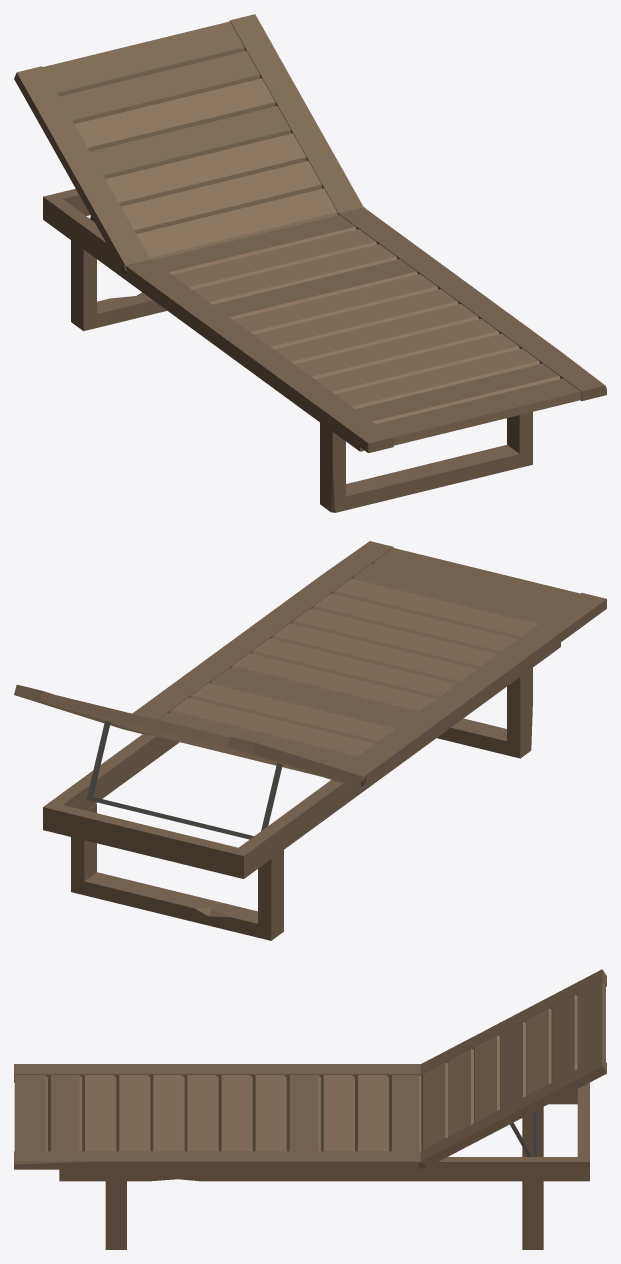
File: SM_Props_City_Beach_DeckChair_02.fbx
The picture shows the model from 3 angles, top to bottom: view 1: azimuth 30°, elevation 25°; view 2: azimuth 150°, elevation 25°; view 3: azimuth 270°, elevation 25°; orthographic projection. The views are drawn at different scales.
Visible parts, largest first — view 1: SM_Props_City_Beach_DeckChair_02; view 2: SM_Props_City_Beach_DeckChair_02; view 3: SM_Props_City_Beach_DeckChair_02.
Part boxes in pixels (box(x1,y1,x2,y2)): SM_Props_City_Beach_DeckChair_02: box(14, 14, 606, 512); SM_Props_City_Beach_DeckChair_02: box(14, 541, 606, 940); SM_Props_City_Beach_DeckChair_02: box(14, 969, 606, 1249).
Bounding box in the file's own units: 76.8 × 69.6 × 196.
